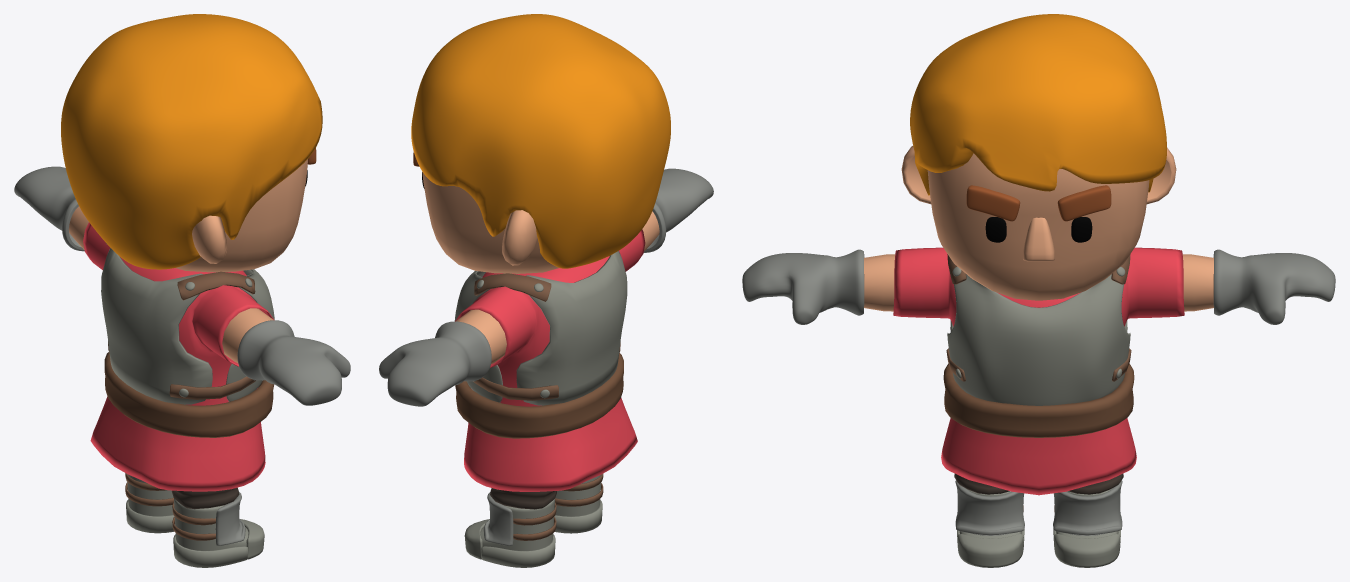
File: Level_1.fbx
The picture shows the model from 3 angles, left to right: view 1: azimuth 30°, elevation 25°; view 2: azimuth 150°, elevation 25°; view 3: azimuth 270°, elevation 25°; orthographic projection. The views are drawn at different scales.
Visible parts, largest first — view 1: TOC.002, AO_1.005, AO GIAP_2.005, GANG TAY.005, THAT LUNG.005, DAU_1.005, GIAY_1.025, GIAY_1.021, BUNG.005, Cube.005, GIAY_1.023, GIM AO GIAP.005 (+5 smaller); view 2: TOC.002, AO_1.005, AO GIAP_2.005, GANG TAY.005, THAT LUNG.005, DAU_1.005, GIAY_1.025, GIAY_1.021, BUNG.005, Cube.005, GIAY_1.023, GIM AO GIAP.005 (+5 smaller); view 3: TOC.002, AO_1.005, AO GIAP_1.005, DAU_1.005, GANG TAY.005, THAT LUNG.005, GIAY_1.024, GIAY_1.022, BUNG.005, LONG MAY.005, Cube.005, MUI.005 (+2 smaller).
Part boxes in pixels (x1,y1,x2,y2): TOC.002: [61, 14, 322, 269]; AO_1.005: [83, 222, 274, 491]; AO GIAP_2.005: [101, 248, 212, 404]; GANG TAY.005: [14, 166, 350, 405]; THAT LUNG.005: [104, 352, 274, 437]; DAU_1.005: [175, 159, 307, 272]; GIAY_1.025: [127, 474, 248, 550]; GIAY_1.021: [126, 500, 248, 567]; BUNG.005: [68, 206, 273, 362]; Cube.005: [192, 215, 227, 263]; GIAY_1.023: [125, 473, 215, 540]; GIM AO GIAP.005: [106, 243, 255, 300]; TOC.002: [411, 14, 670, 268]; AO_1.005: [455, 229, 645, 491]; AO GIAP_2.005: [516, 251, 627, 405]; GANG TAY.005: [379, 168, 713, 406]; THAT LUNG.005: [455, 353, 623, 438]; DAU_1.005: [422, 172, 558, 273]; GIAY_1.025: [480, 475, 601, 550]; GIAY_1.021: [481, 500, 602, 567]; BUNG.005: [456, 211, 659, 364]; Cube.005: [502, 210, 537, 265]; GIAY_1.023: [513, 474, 603, 540]; GIM AO GIAP.005: [474, 273, 551, 301]; TOC.002: [910, 14, 1166, 195]; AO_1.005: [893, 247, 1184, 495]; AO GIAP_1.005: [947, 274, 1130, 405]; DAU_1.005: [927, 153, 1149, 300]; GANG TAY.005: [742, 249, 1335, 324]; THAT LUNG.005: [943, 363, 1134, 437]; GIAY_1.024: [955, 480, 1122, 535]; GIAY_1.022: [957, 534, 1120, 567]; BUNG.005: [864, 254, 1213, 311]; LONG MAY.005: [966, 185, 1111, 221]; Cube.005: [901, 146, 1176, 204]; MUI.005: [1023, 217, 1054, 261].
Size of the model in its own units: 100 by 219 by 228.
